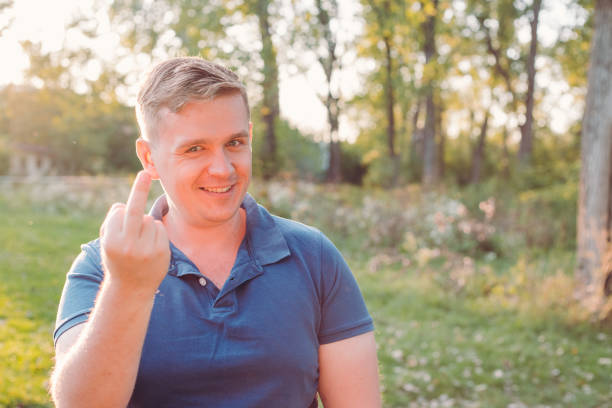insulting_gesture: (98, 169, 169, 289)
